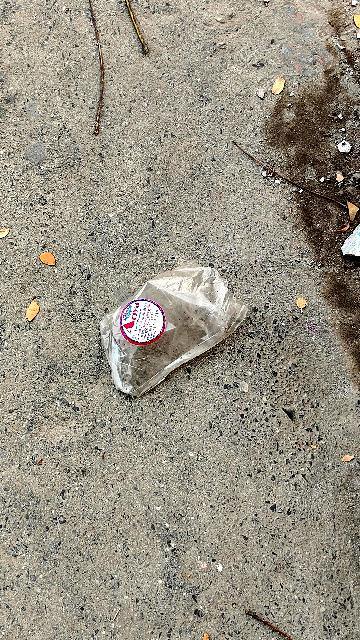polythene: (99, 273, 228, 395)
